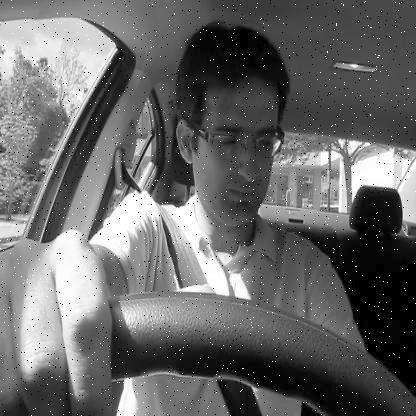seatbelt: (109, 18, 297, 292)
